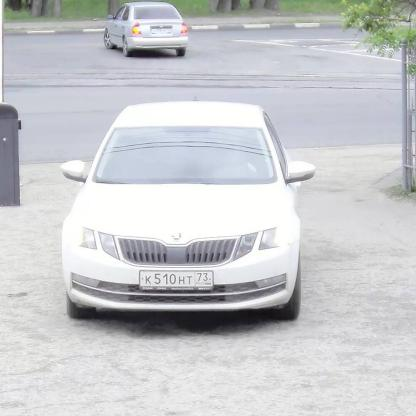plate: (138, 270, 213, 287), (152, 28, 171, 33)
